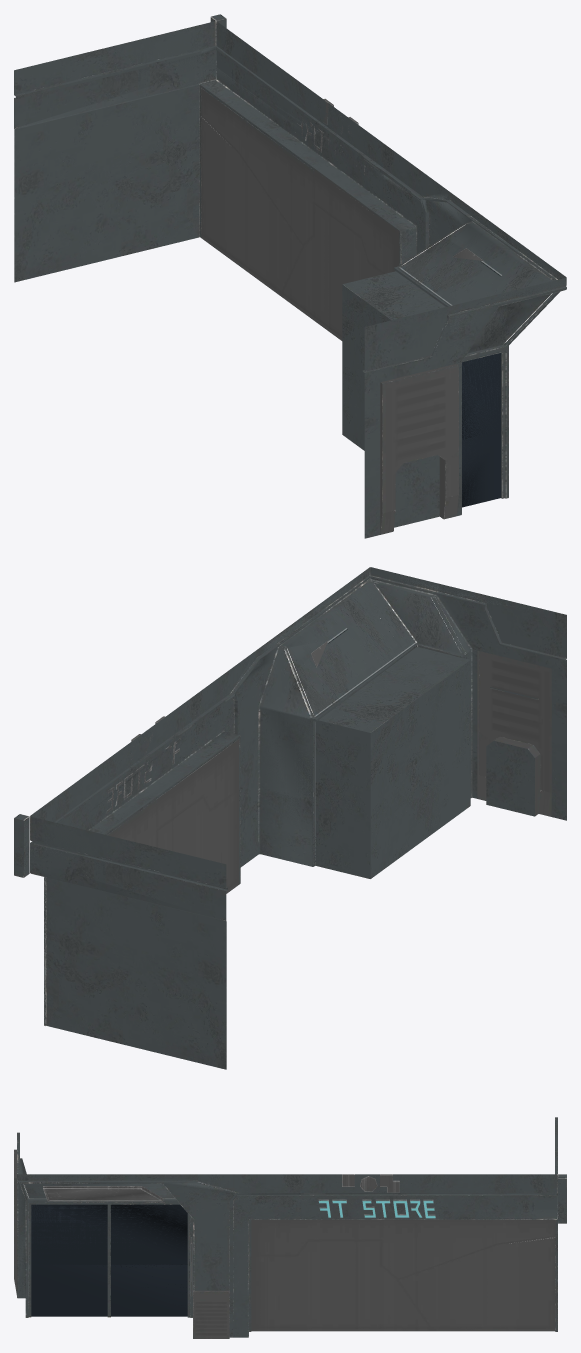
Rendered from sm_cb01_storefront01.glb.
3 views of the same model, one above another, from view 1: azimuth 30°, elevation 25°; view 2: azimuth 150°, elevation 25°; view 3: azimuth 270°, elevation 25° (orthographic). The views are drawn at different scales.
Visible parts, largest first — view 1: sm_cb01_storefront01_00; view 2: sm_cb01_storefront01_00; view 3: sm_cb01_storefront01_00.
Boxes of the visible parts, x1,y1,x2,y2 form: sm_cb01_storefront01_00: (14,14,566,538); sm_cb01_storefront01_00: (14,567,566,1069); sm_cb01_storefront01_00: (14,1117,566,1338).
Size of the model in its own units: 3.15 by 3 by 9.2.
2 materials, 1 textured.
